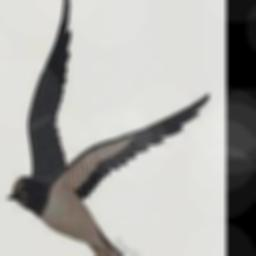Swallow: (6, 0, 210, 256)
